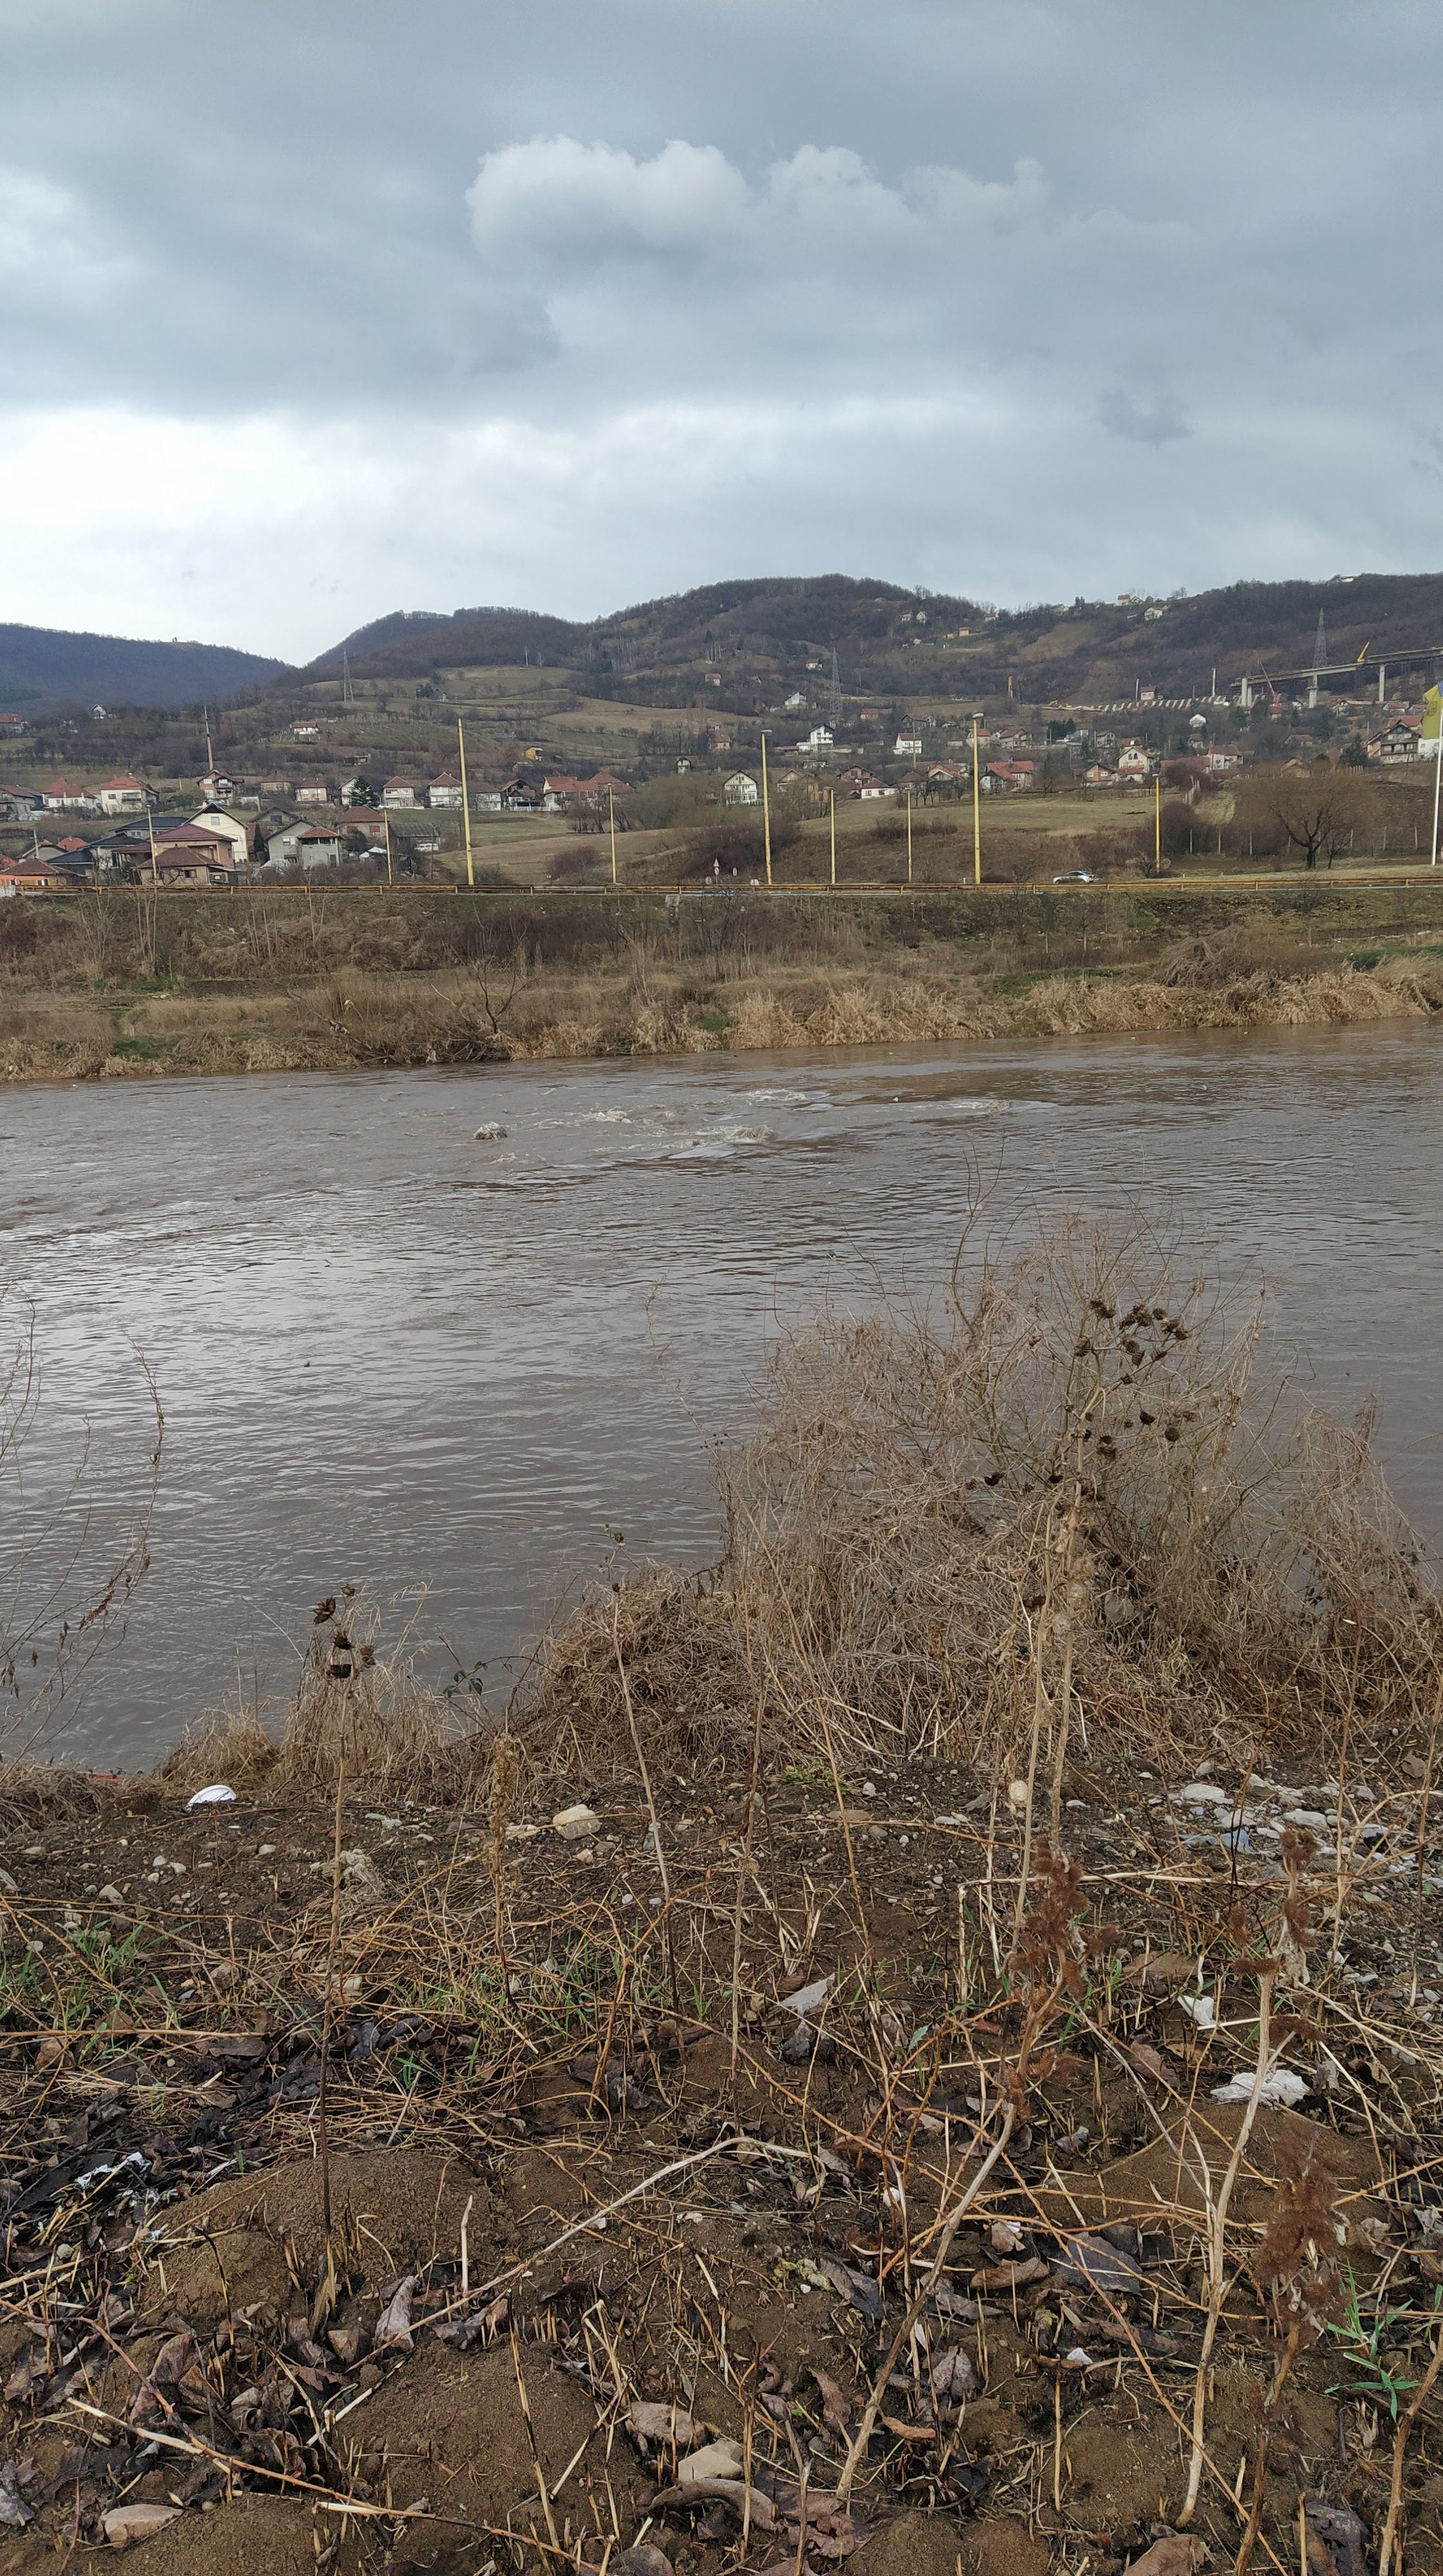Plastic Bottle: (1342, 1161, 1353, 1166), (829, 1251, 836, 1256), (303, 1361, 308, 1366), (892, 1097, 898, 1100), (1131, 1037, 1135, 1039), (1243, 1031, 1246, 1033)
